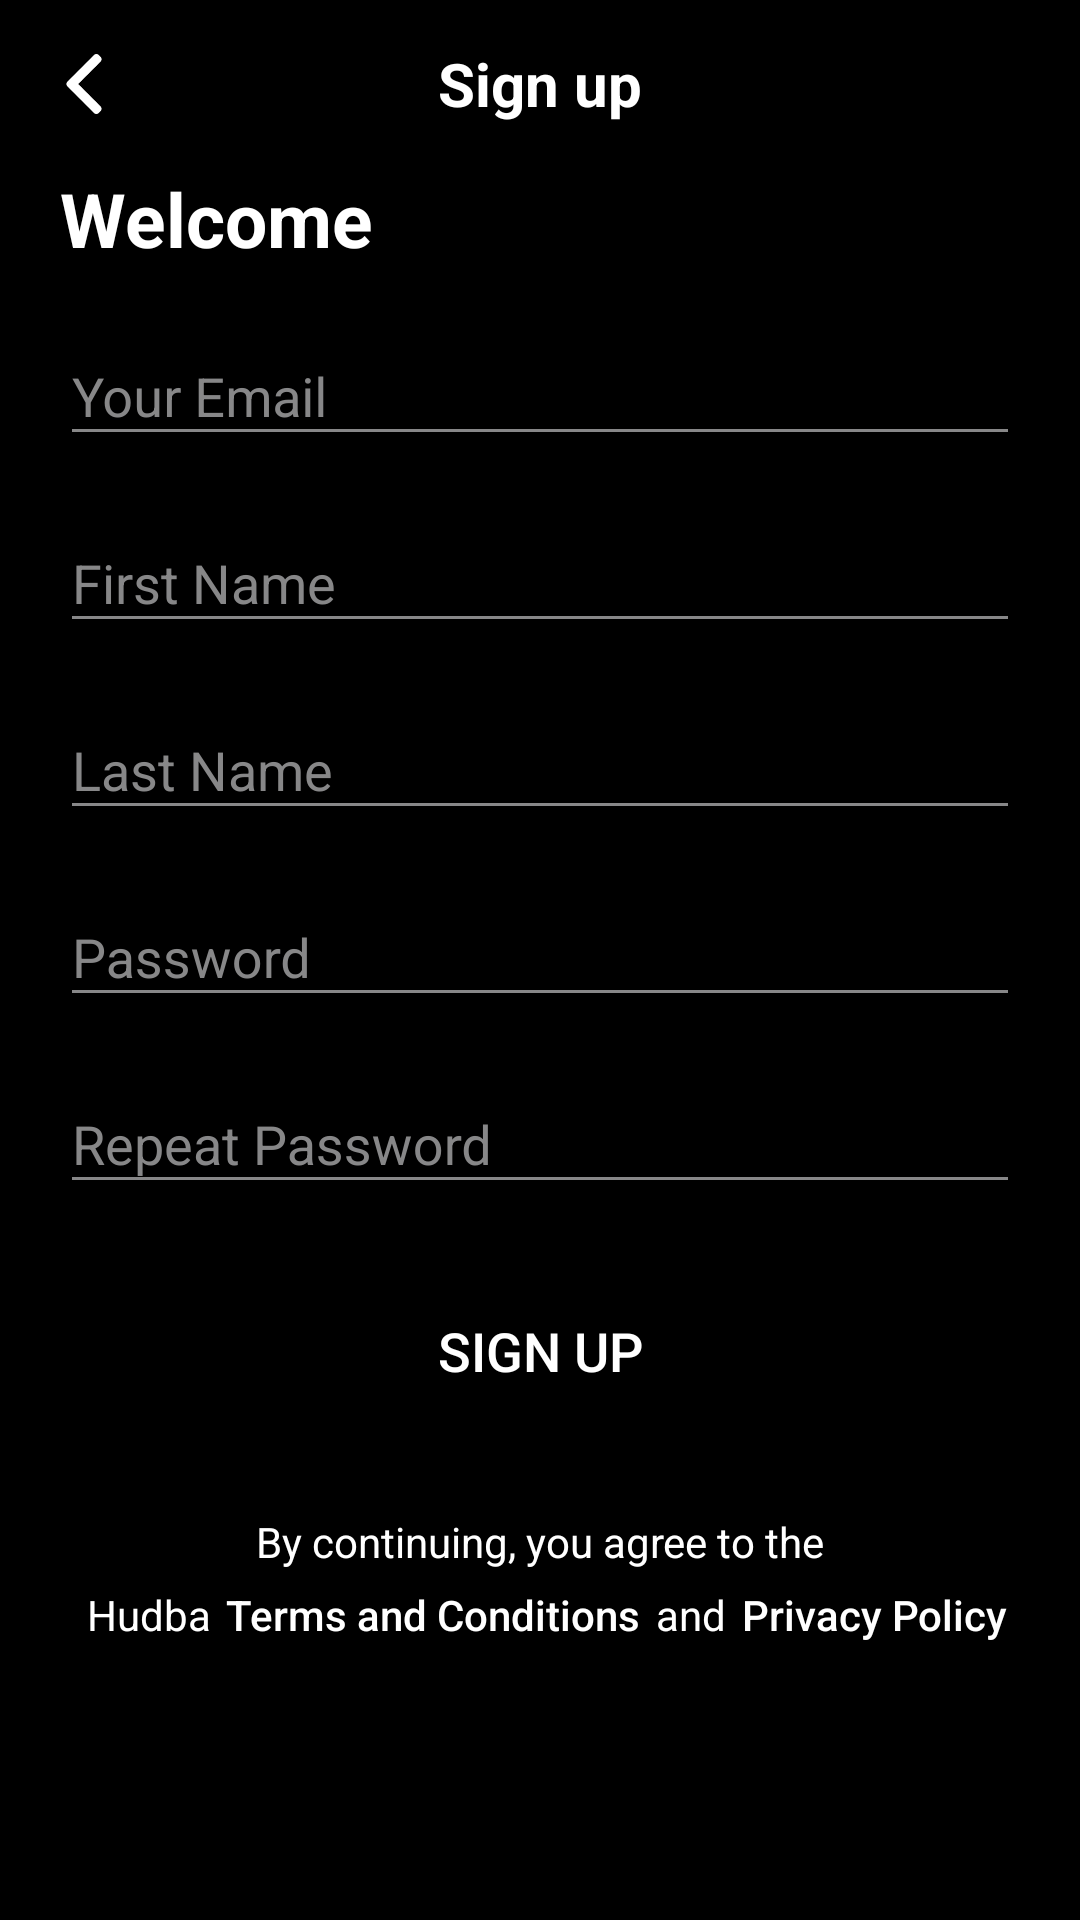

Screen size 1080 × 1920. Icon name, then its box in pixels as {"x1": x1, "y1": y1, "x2": x2, "y2": y2}:
back: {"x1": 66, "y1": 54, "x2": 102, "y2": 114}
